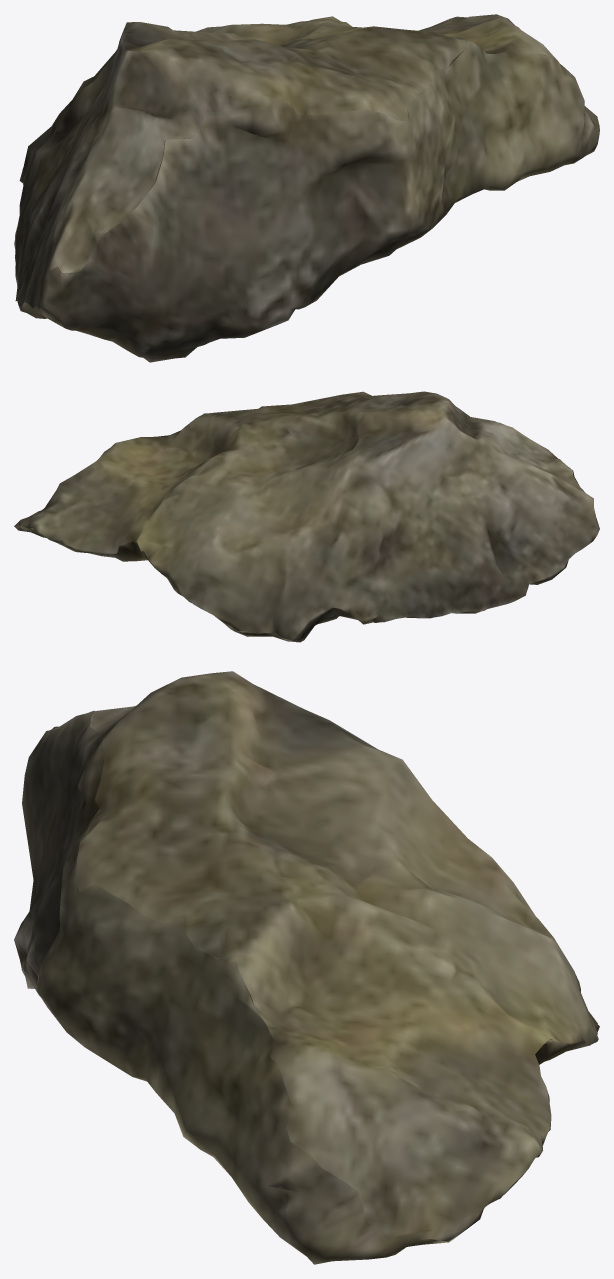
The model's file is rock_moss_set_02_e.gltf.lod.glb.
3 views of the same model, one above another, from view 1: azimuth 30°, elevation 25°; view 2: azimuth 150°, elevation 25°; view 3: azimuth 270°, elevation 25° (orthographic). The views are drawn at different scales.
Visible parts, largest first — view 1: rock_moss_set_02_rock09; view 2: rock_moss_set_02_rock09; view 3: rock_moss_set_02_rock09.
Part boxes in pixels (bbox=[...]): rock_moss_set_02_rock09: bbox=[14, 14, 599, 362]; rock_moss_set_02_rock09: bbox=[14, 391, 599, 642]; rock_moss_set_02_rock09: bbox=[14, 671, 599, 1264].
Size of the model in its own units: 1.63 by 0.6086 by 1.02.
Materials: 1 (1 with a texture image).
